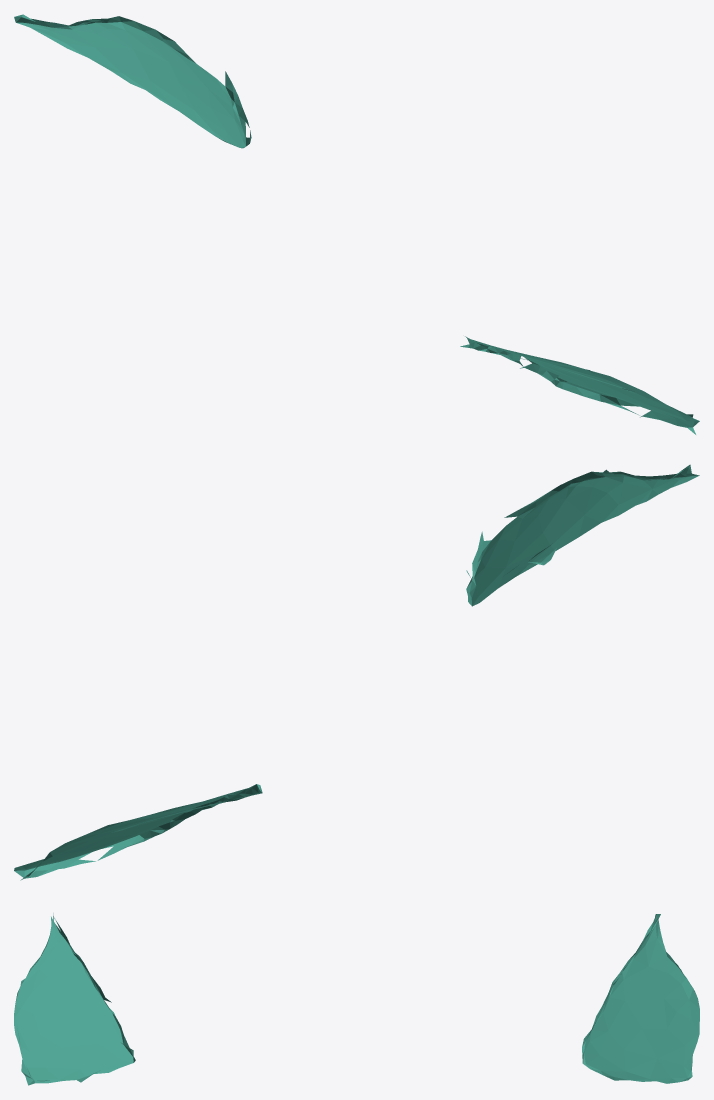
The picture shows the model from 3 angles, top to bottom: view 1: azimuth 30°, elevation 25°; view 2: azimuth 150°, elevation 25°; view 3: azimuth 270°, elevation 25°; orthographic projection. The views are drawn at different scales.
Visible parts, largest first — view 1: 510.obj; view 2: 510.obj; view 3: 510.obj.
Boxes of the visible parts, x1=… form: 510.obj: x1=14, y1=14, x2=699, y2=434; 510.obj: x1=14, y1=464, x2=699, y2=880; 510.obj: x1=14, y1=913, x2=699, y2=1085.
Bounding box in the file's own units: 1021 × 629 × 3755.
